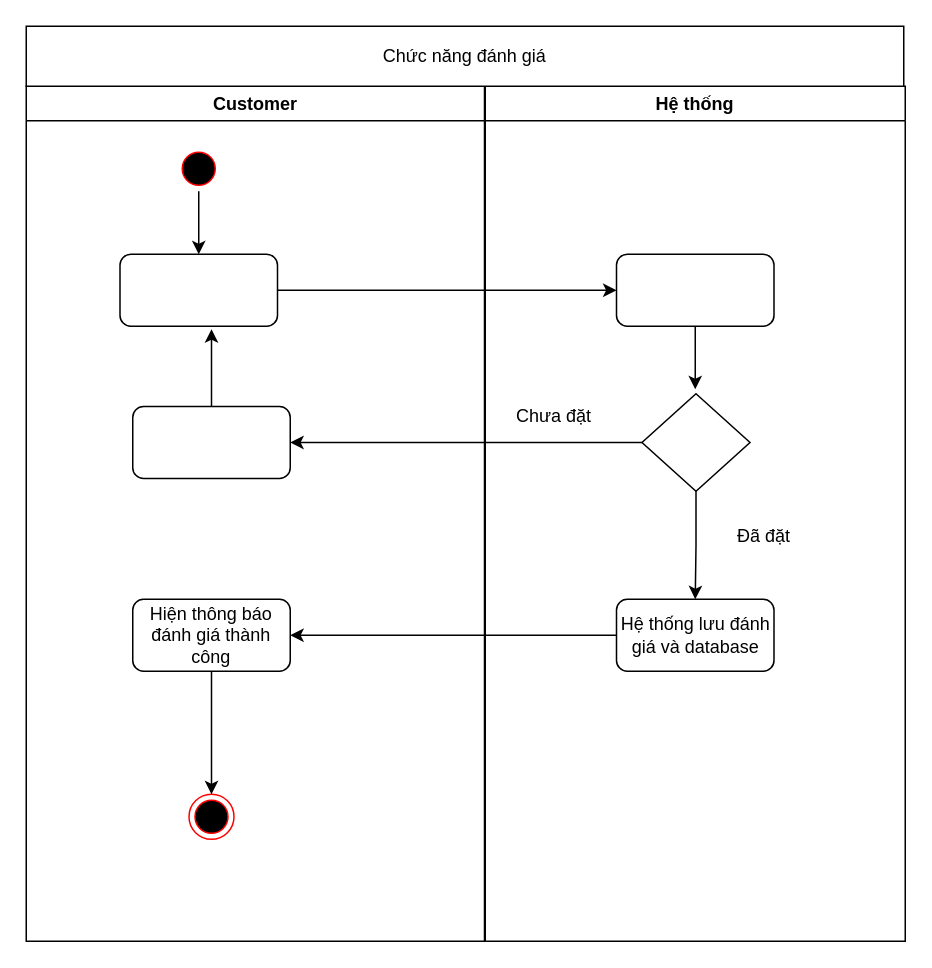
The diagram is 932 pixels wide and 968 high, and some of its shapes have lost their labels. Each missing label, with the box of its shape:
Kiểm tra xem người dùng đã đặt xe này chưa: (615, 253, 774, 326)
Nhập thông tin đánh giá: (118, 253, 278, 326)
Thông báo chưa đặt xe: (131, 405, 290, 478)
